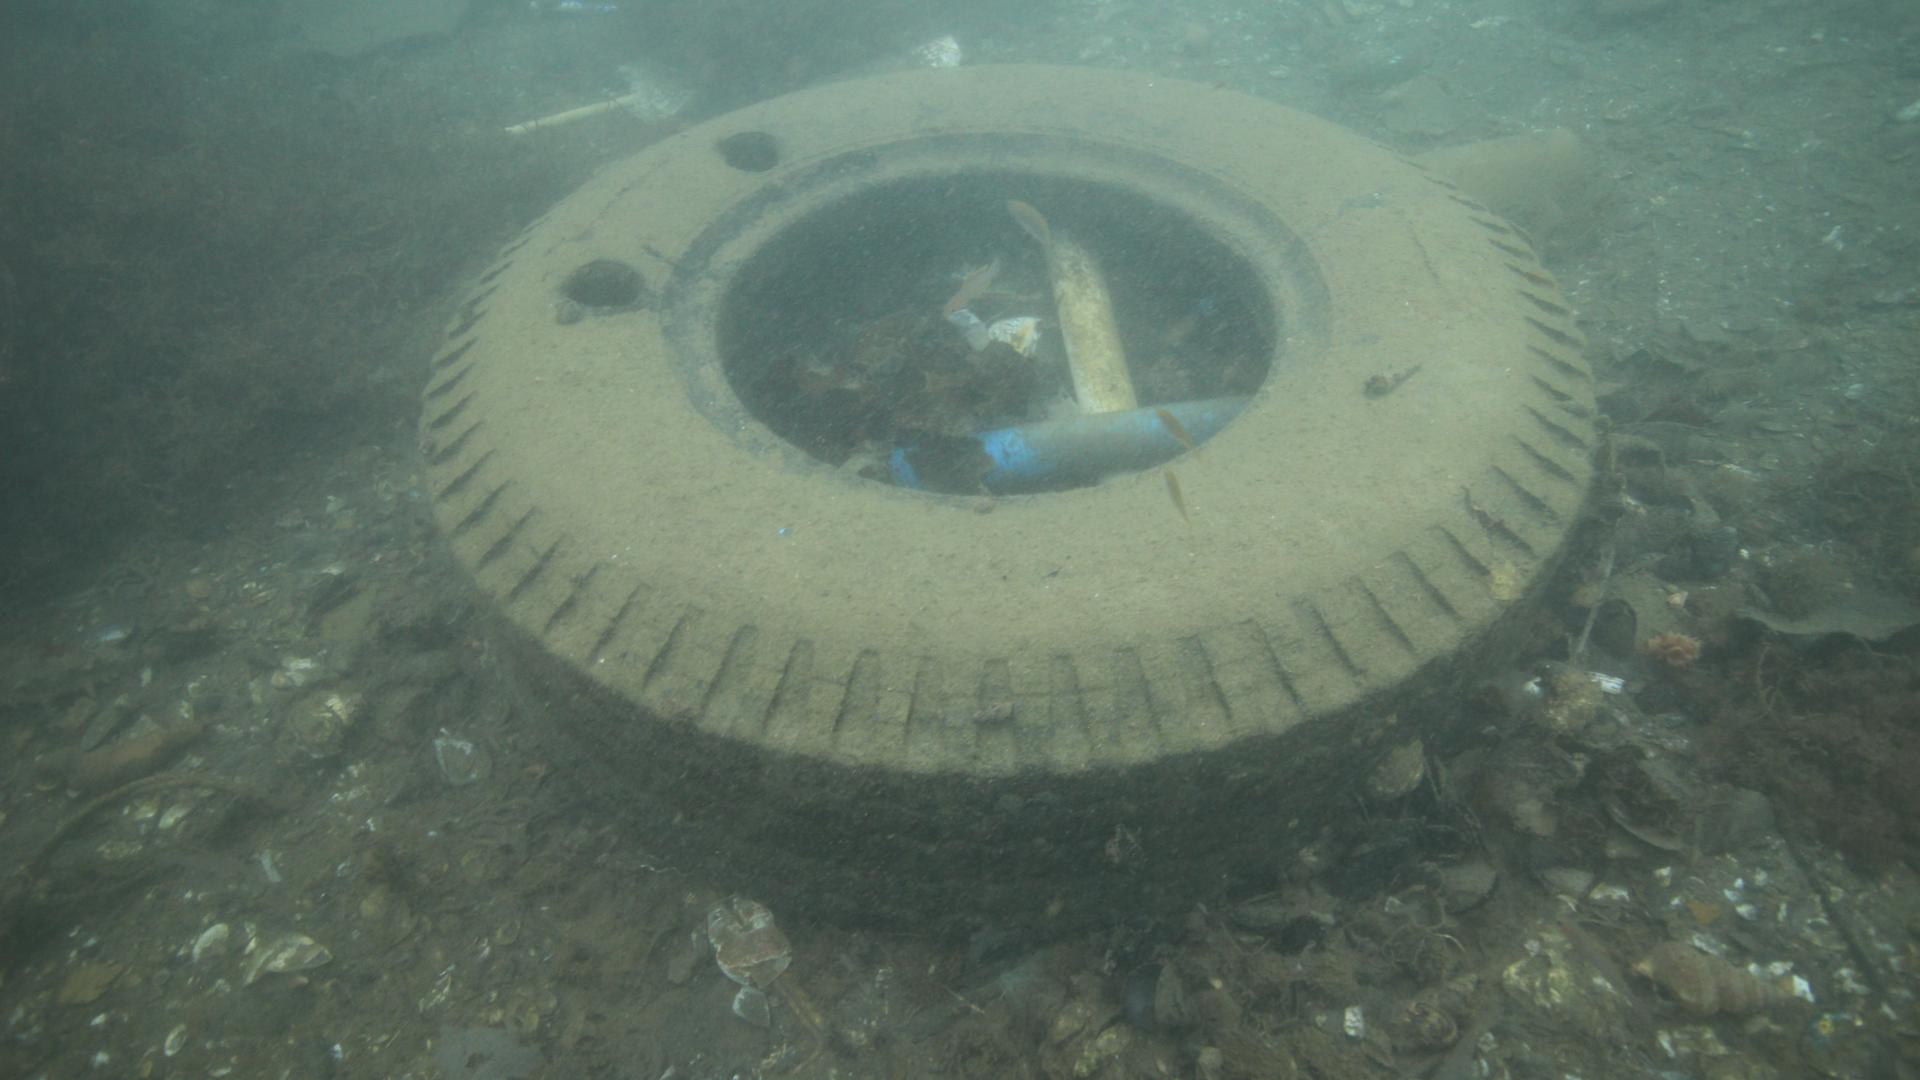tire: (417, 63, 1601, 939)
